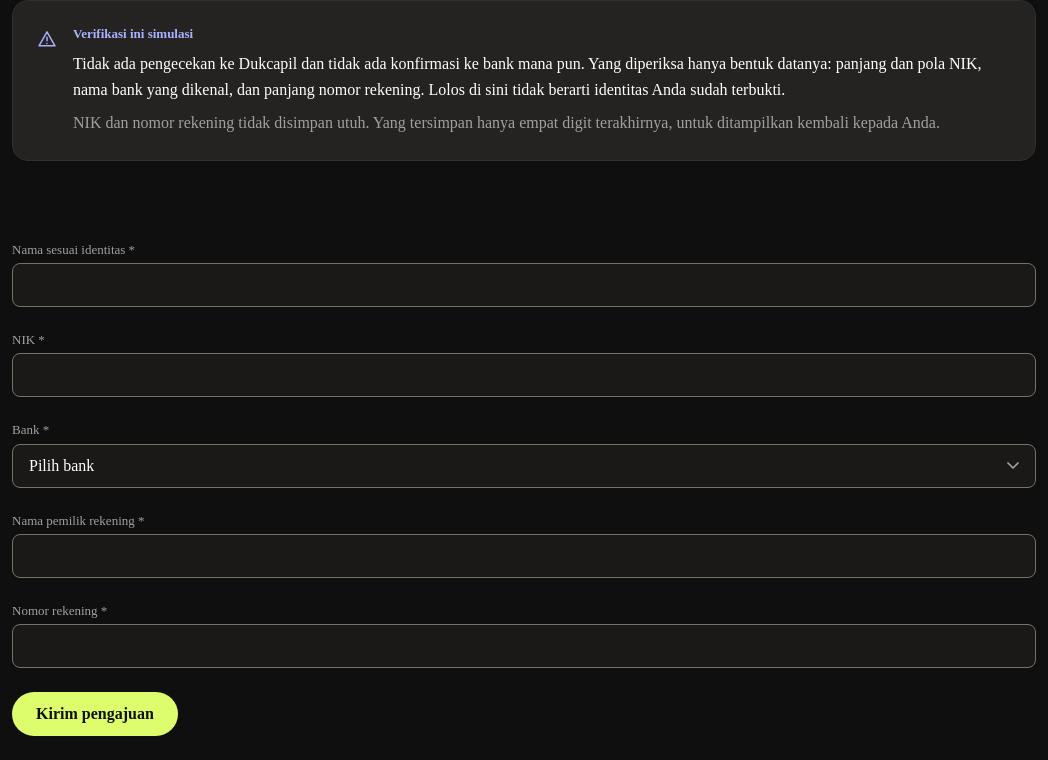
kyc form submission › shows the server message as is when the submission is rejected with 422
Type "Nama Pemilik Akun" into the field labelled "Nama sesuai identitas *".
click(524, 285); type("Nama Pemilik Akun")  # box [12,263,1036,307]
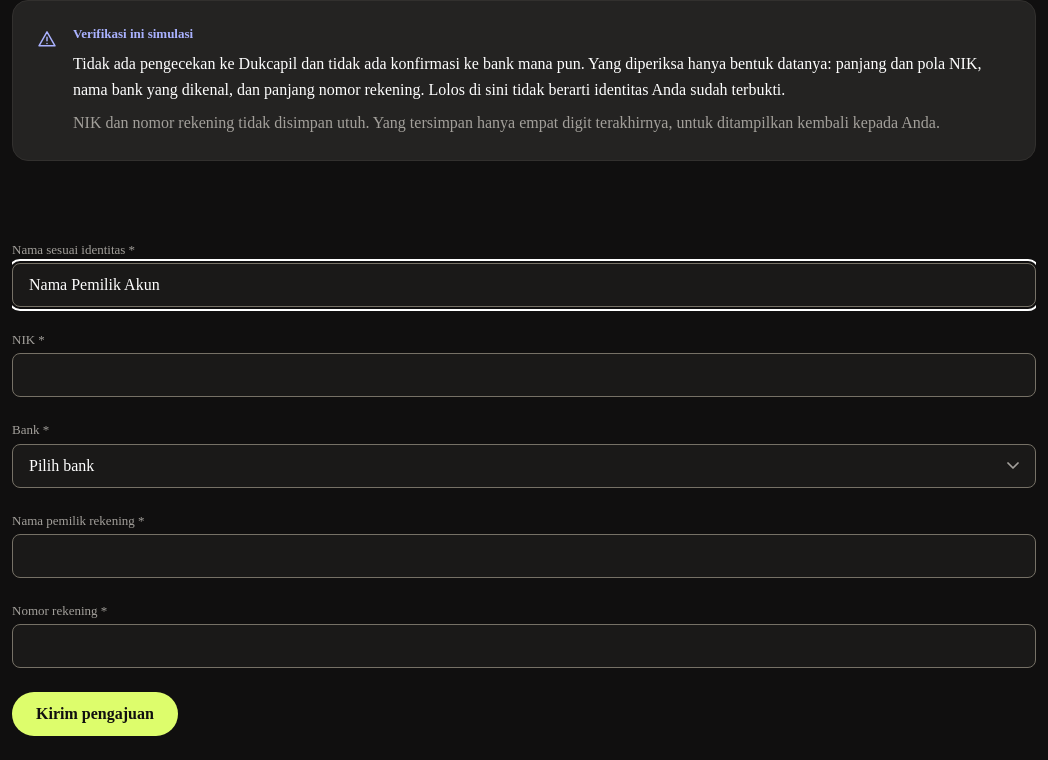
Type "3201234567890123" into the field labelled "NIK *".
click(524, 375); type("3201234567890123")  # box [12,353,1036,397]
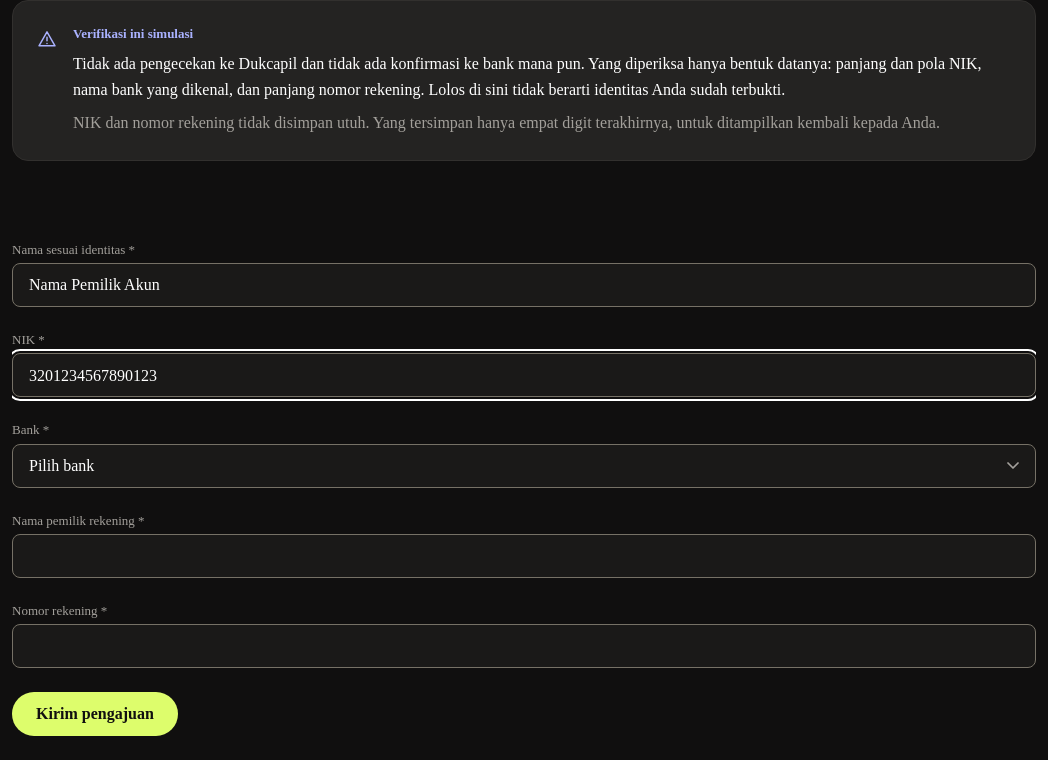
Select "BCA" in the dropdown labelled "Bank *" at (524,466), box [12,444,1036,488]
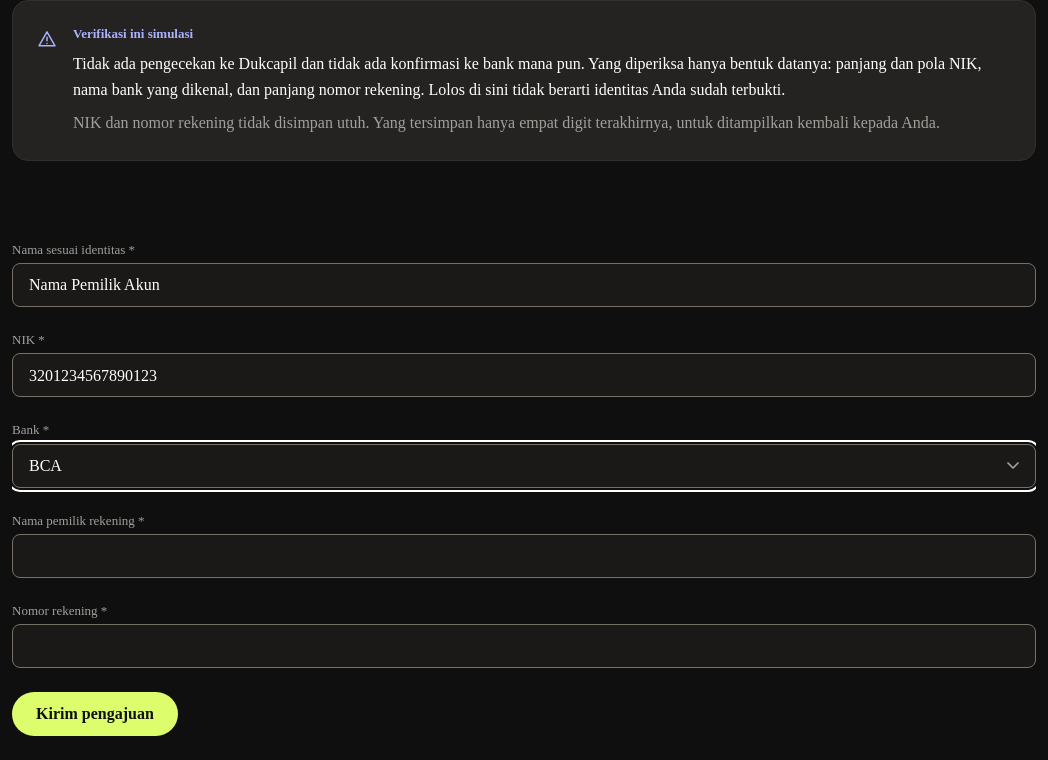
Type "Nama Pemilik Rekening" into the field labelled "Nama pemilik rekening *".
click(524, 556); type("Nama Pemilik Rekening")  # box [12,534,1036,578]
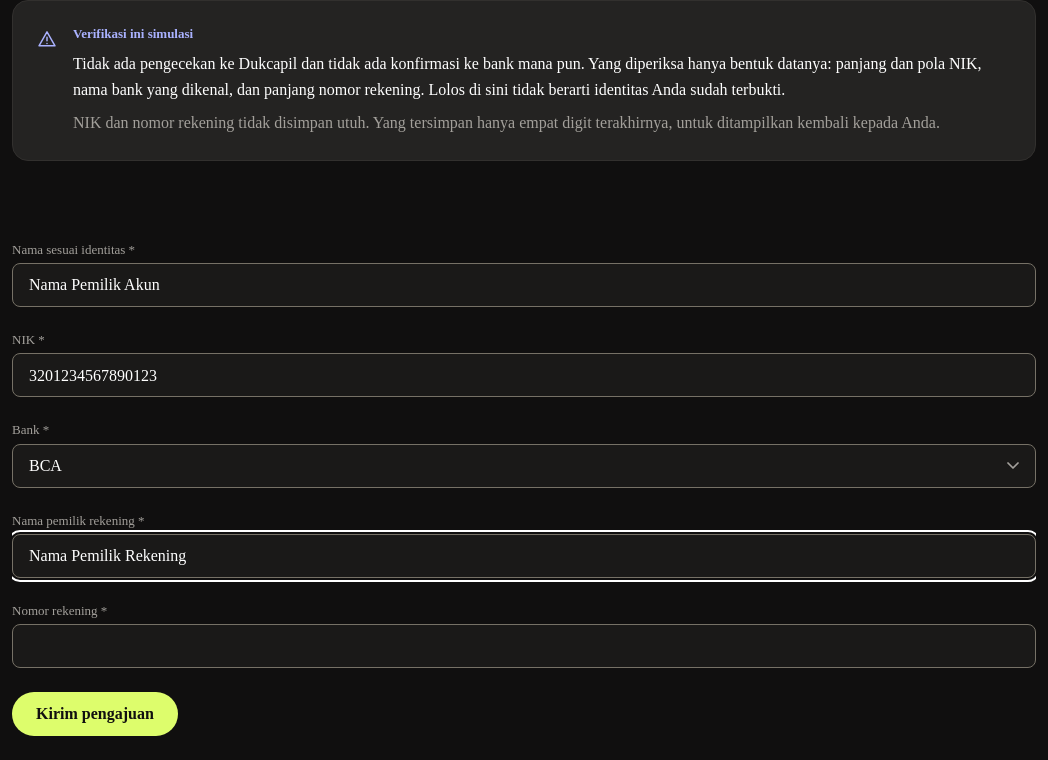
Type "1234567890" into the field labelled "Nomor rekening *".
click(524, 646); type("1234567890")  # box [12,624,1036,668]
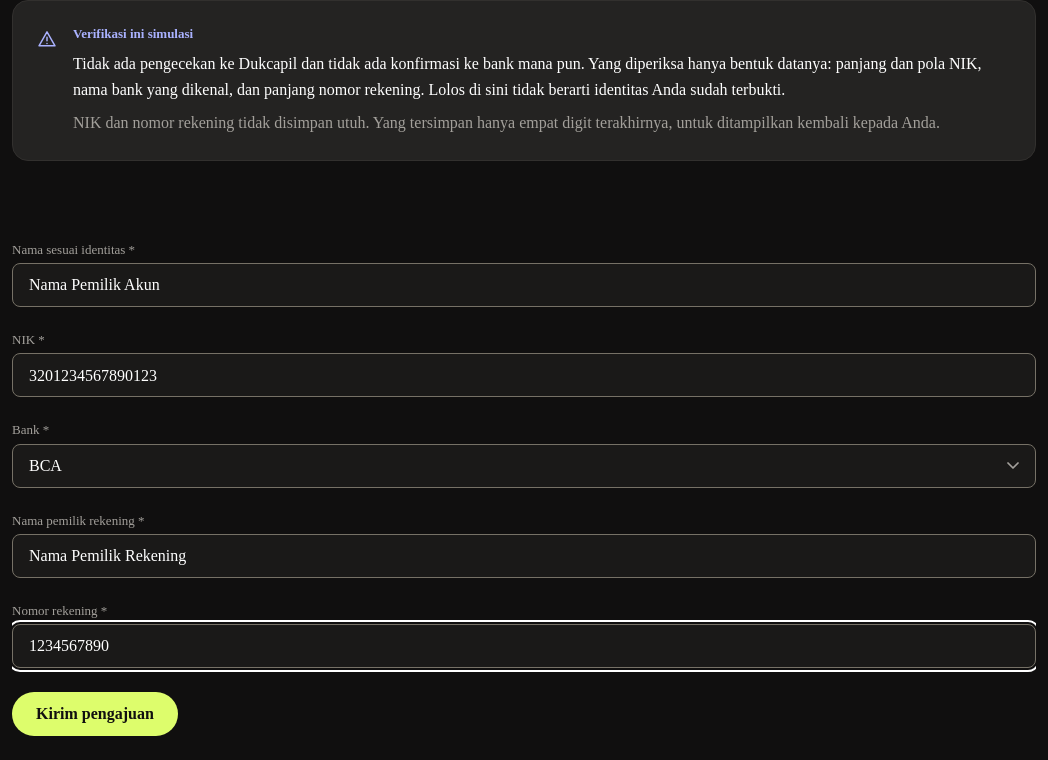
Click the button "Kirim pengajuan".
click(95, 714)  # box [12,692,178,736]
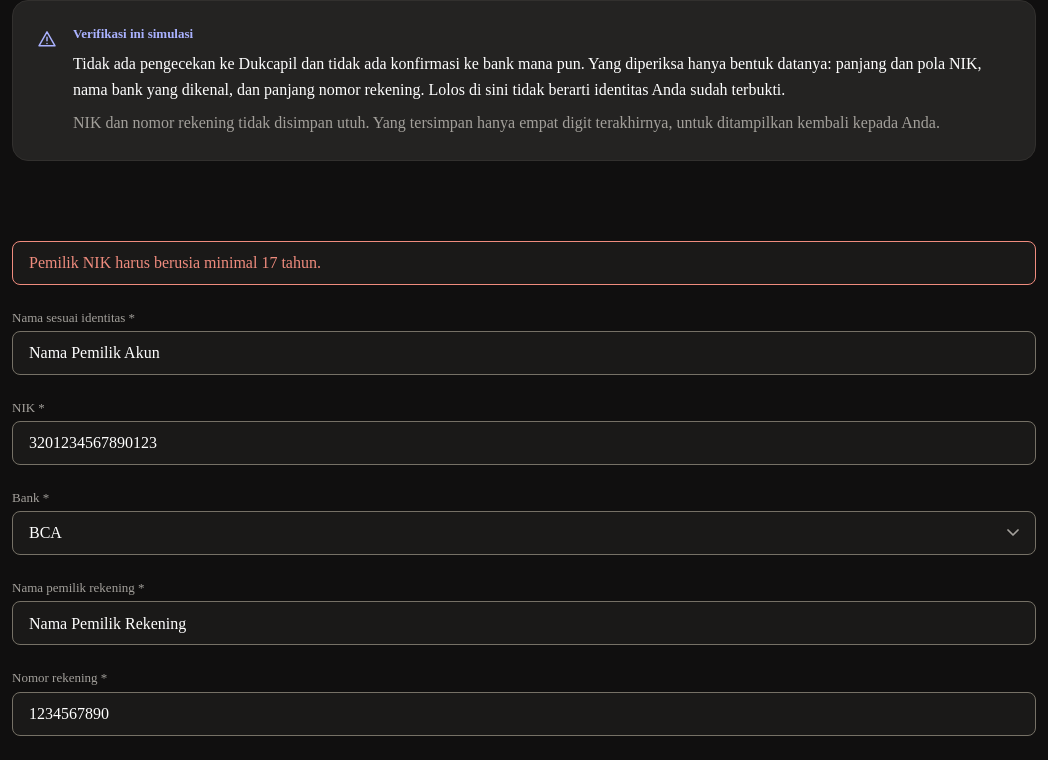
Result: the message reads "Pemilik NIK harus berusia minimal 17 tahun." at [29,254,321,271]
